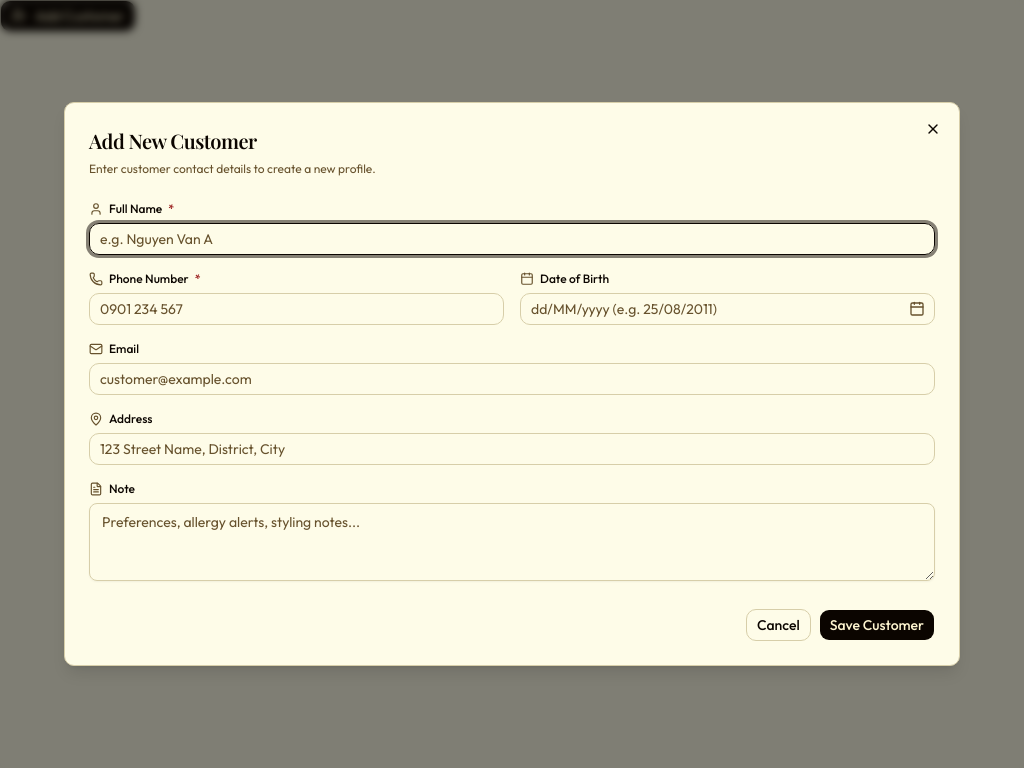
Test: CustomerFormDialog - Create Mode › formats mobile input as ____ ___ ___ and date input as dd/MM/yyyy while typing
In the field labelled "Phone Number *": (296, 309) x1=89 y1=293 x2=504 y2=325, type "0901234567"
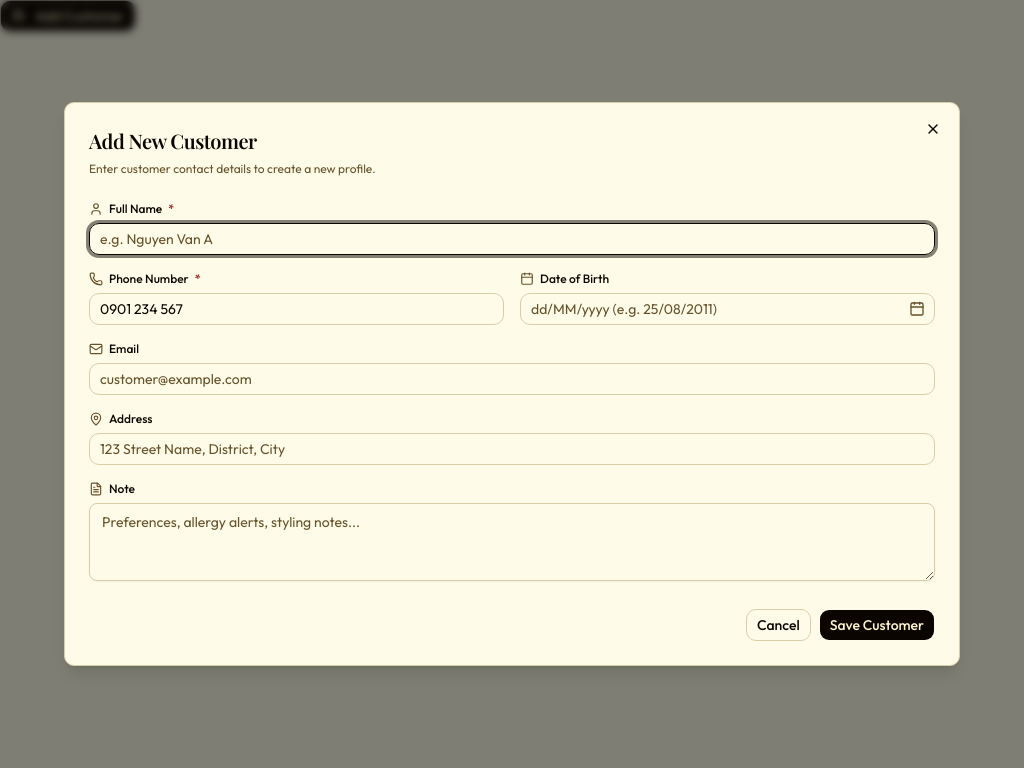
Check: the field labelled "Phone Number *" holds "0901 234 567", box x1=89 y1=293 x2=504 y2=325
In the field labelled "Date of Birth": (728, 309) x1=520 y1=293 x2=935 y2=325, type "25082011"
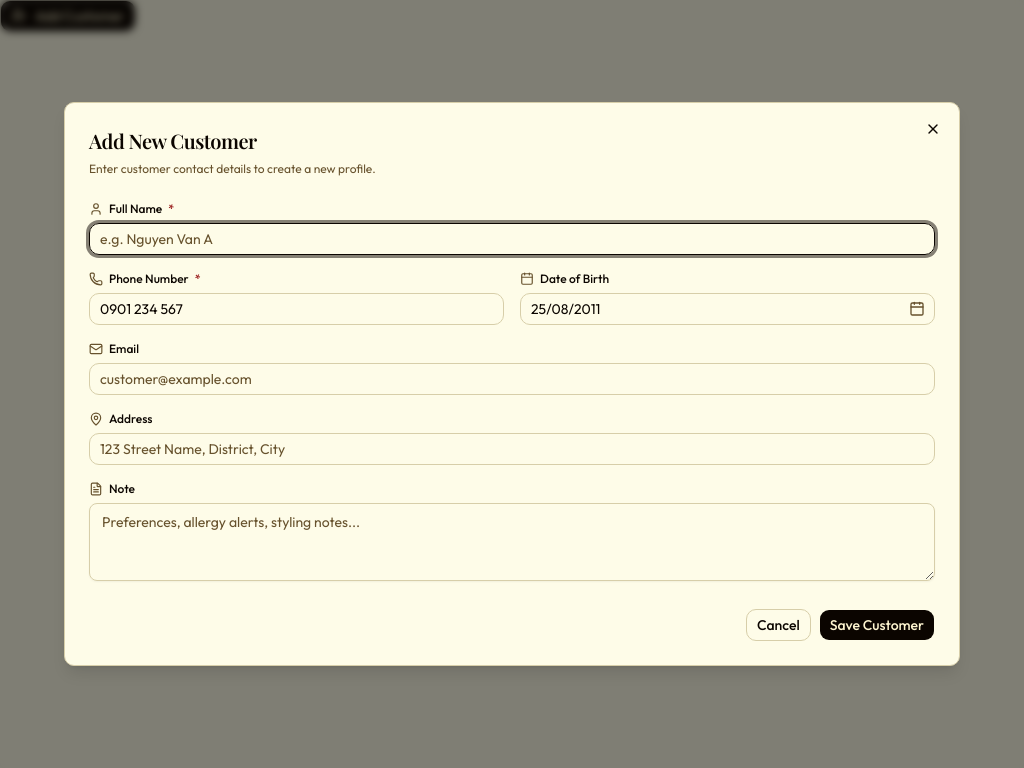
Check: the field labelled "Date of Birth" holds "25/08/2011", box x1=520 y1=293 x2=935 y2=325
